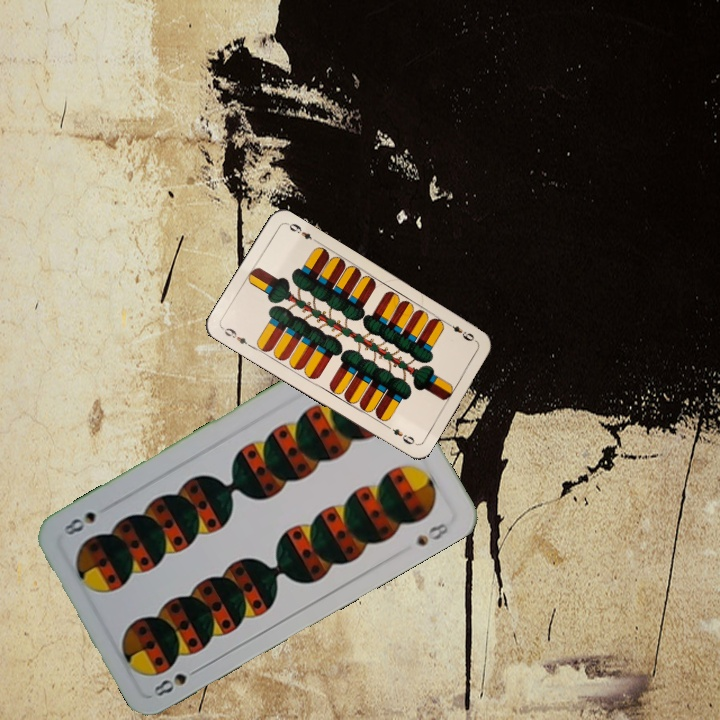E9: (219, 323, 255, 350), (443, 318, 479, 345)
S8: (149, 663, 204, 699)
